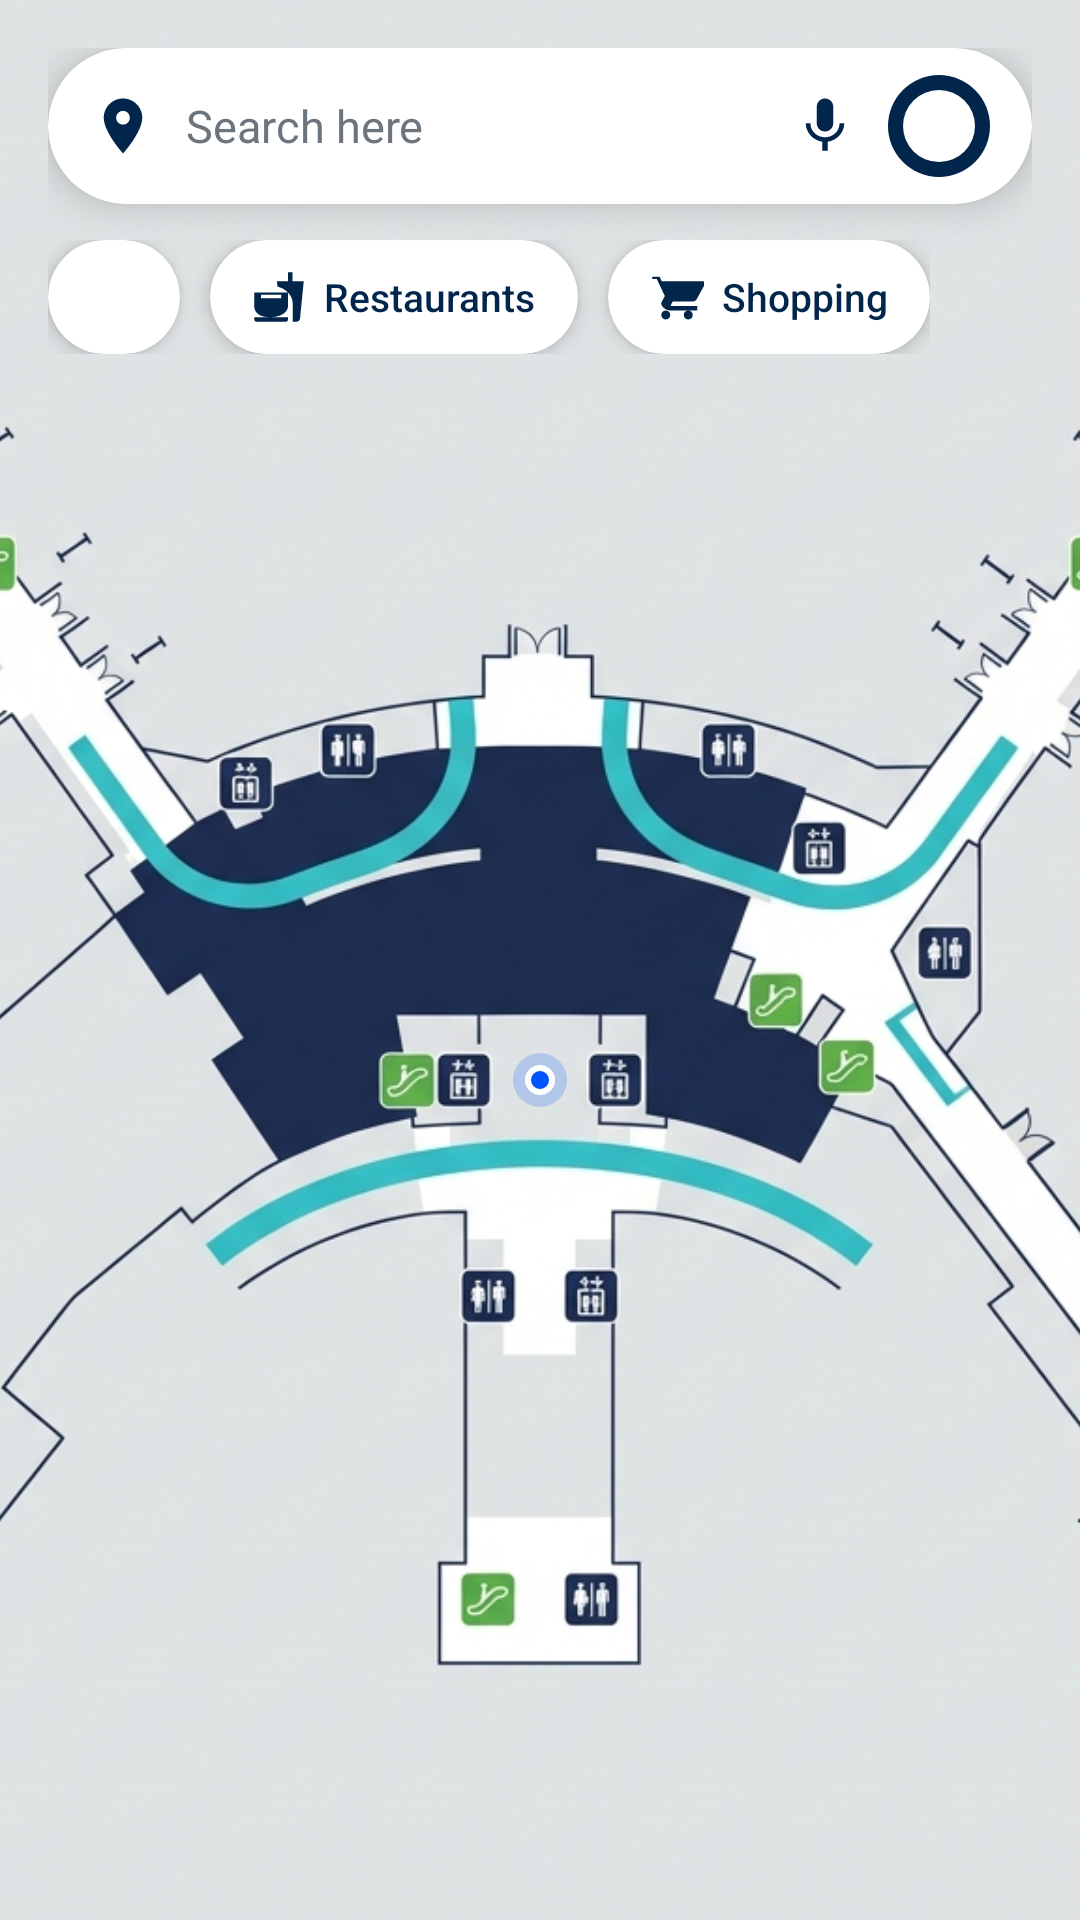

Where icons sit on this 1080 × 1920 app screen, as (x1, y1, x2, y2):
location: (103, 98, 143, 153)
mic: (805, 98, 845, 151)
